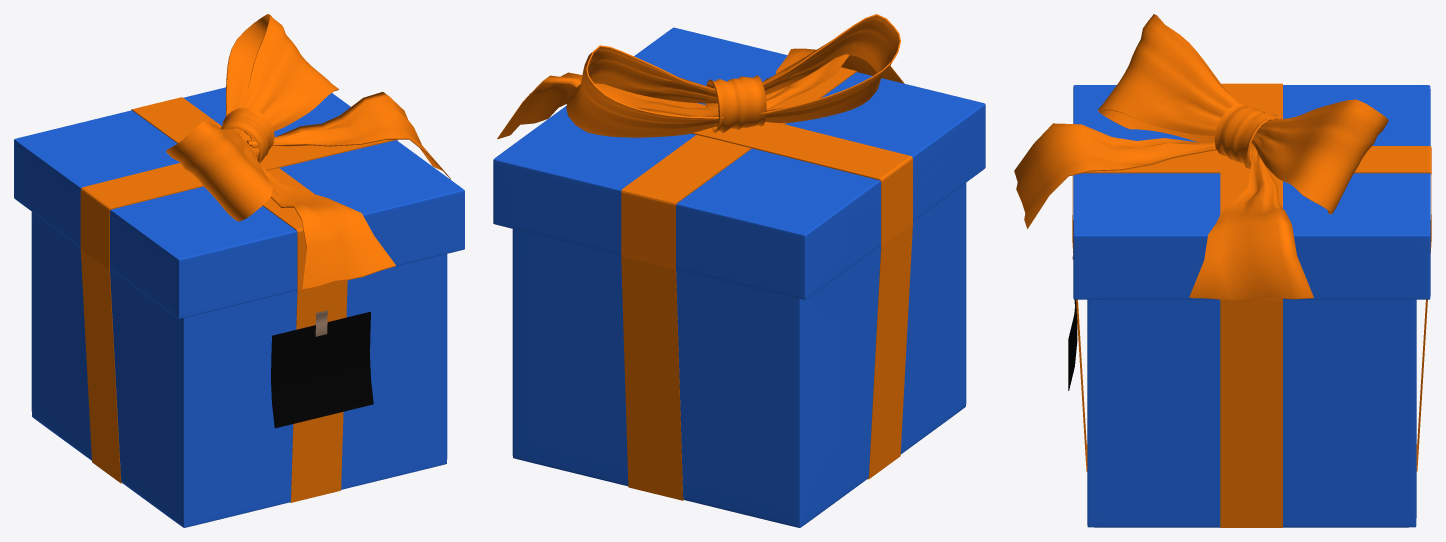
Rendered from gift3.glb.
3 views of the same model, side by side, from view 1: azimuth 30°, elevation 25°; view 2: azimuth 150°, elevation 25°; view 3: azimuth 270°, elevation 25° (orthographic). The views are drawn at different scales.
Visible parts, largest first — view 1: Cube004, Plane010, Plane005, Plane012, Plane003, Plane002, Cylinder001; view 2: Cube004, Plane003, Plane005, Plane010, Plane012, Cylinder001; view 3: Cube004, Plane010, Plane012, Plane005, Plane003, Cylinder001, Plane002.
Boxes of the visible parts, x1,y1,x2,y2 form: Cube004: (14,87,464,527); Plane010: (166,14,338,221); Plane005: (80,139,397,483); Plane012: (246,92,450,289); Plane003: (131,97,347,502); Plane002: (271,311,373,428); Cylinder001: (220,107,274,163); Cube004: (493,27,985,527); Plane003: (621,67,857,500); Plane005: (656,98,912,479); Plane010: (566,14,900,137); Plane012: (497,48,904,139); Cylinder001: (705,75,766,133); Cube004: (1073,85,1430,527); Plane010: (1098,14,1388,214); Plane012: (1014,123,1313,300); Plane005: (1220,83,1282,527); Plane003: (1072,146,1431,471); Cylinder001: (1214,103,1281,169); Plane002: (1068,299,1077,390).
Size of the model in its own units: 2.56 by 2.69 by 2.54.
